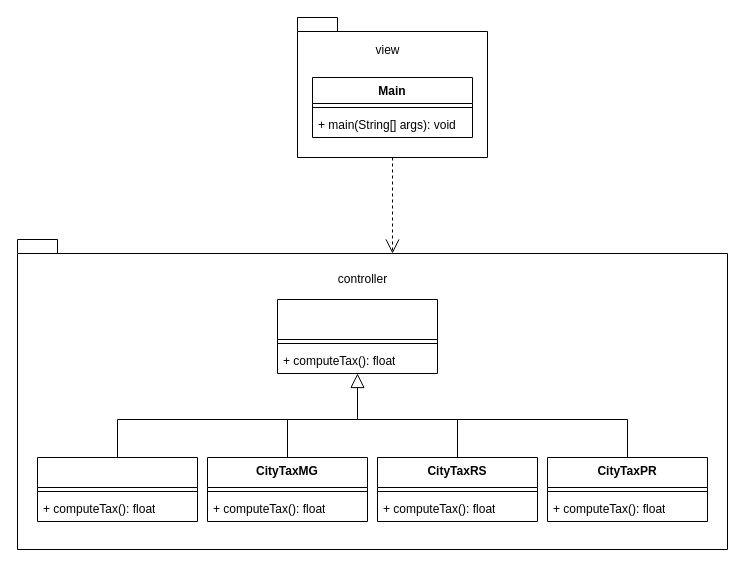
This 745x567 diagram has some shape labels left out. Each missing label, with the box of its shape:
<<interface>> ICityTaxStrategy: (276, 298, 438, 374)
CityTaxSP: (36, 456, 198, 522)
